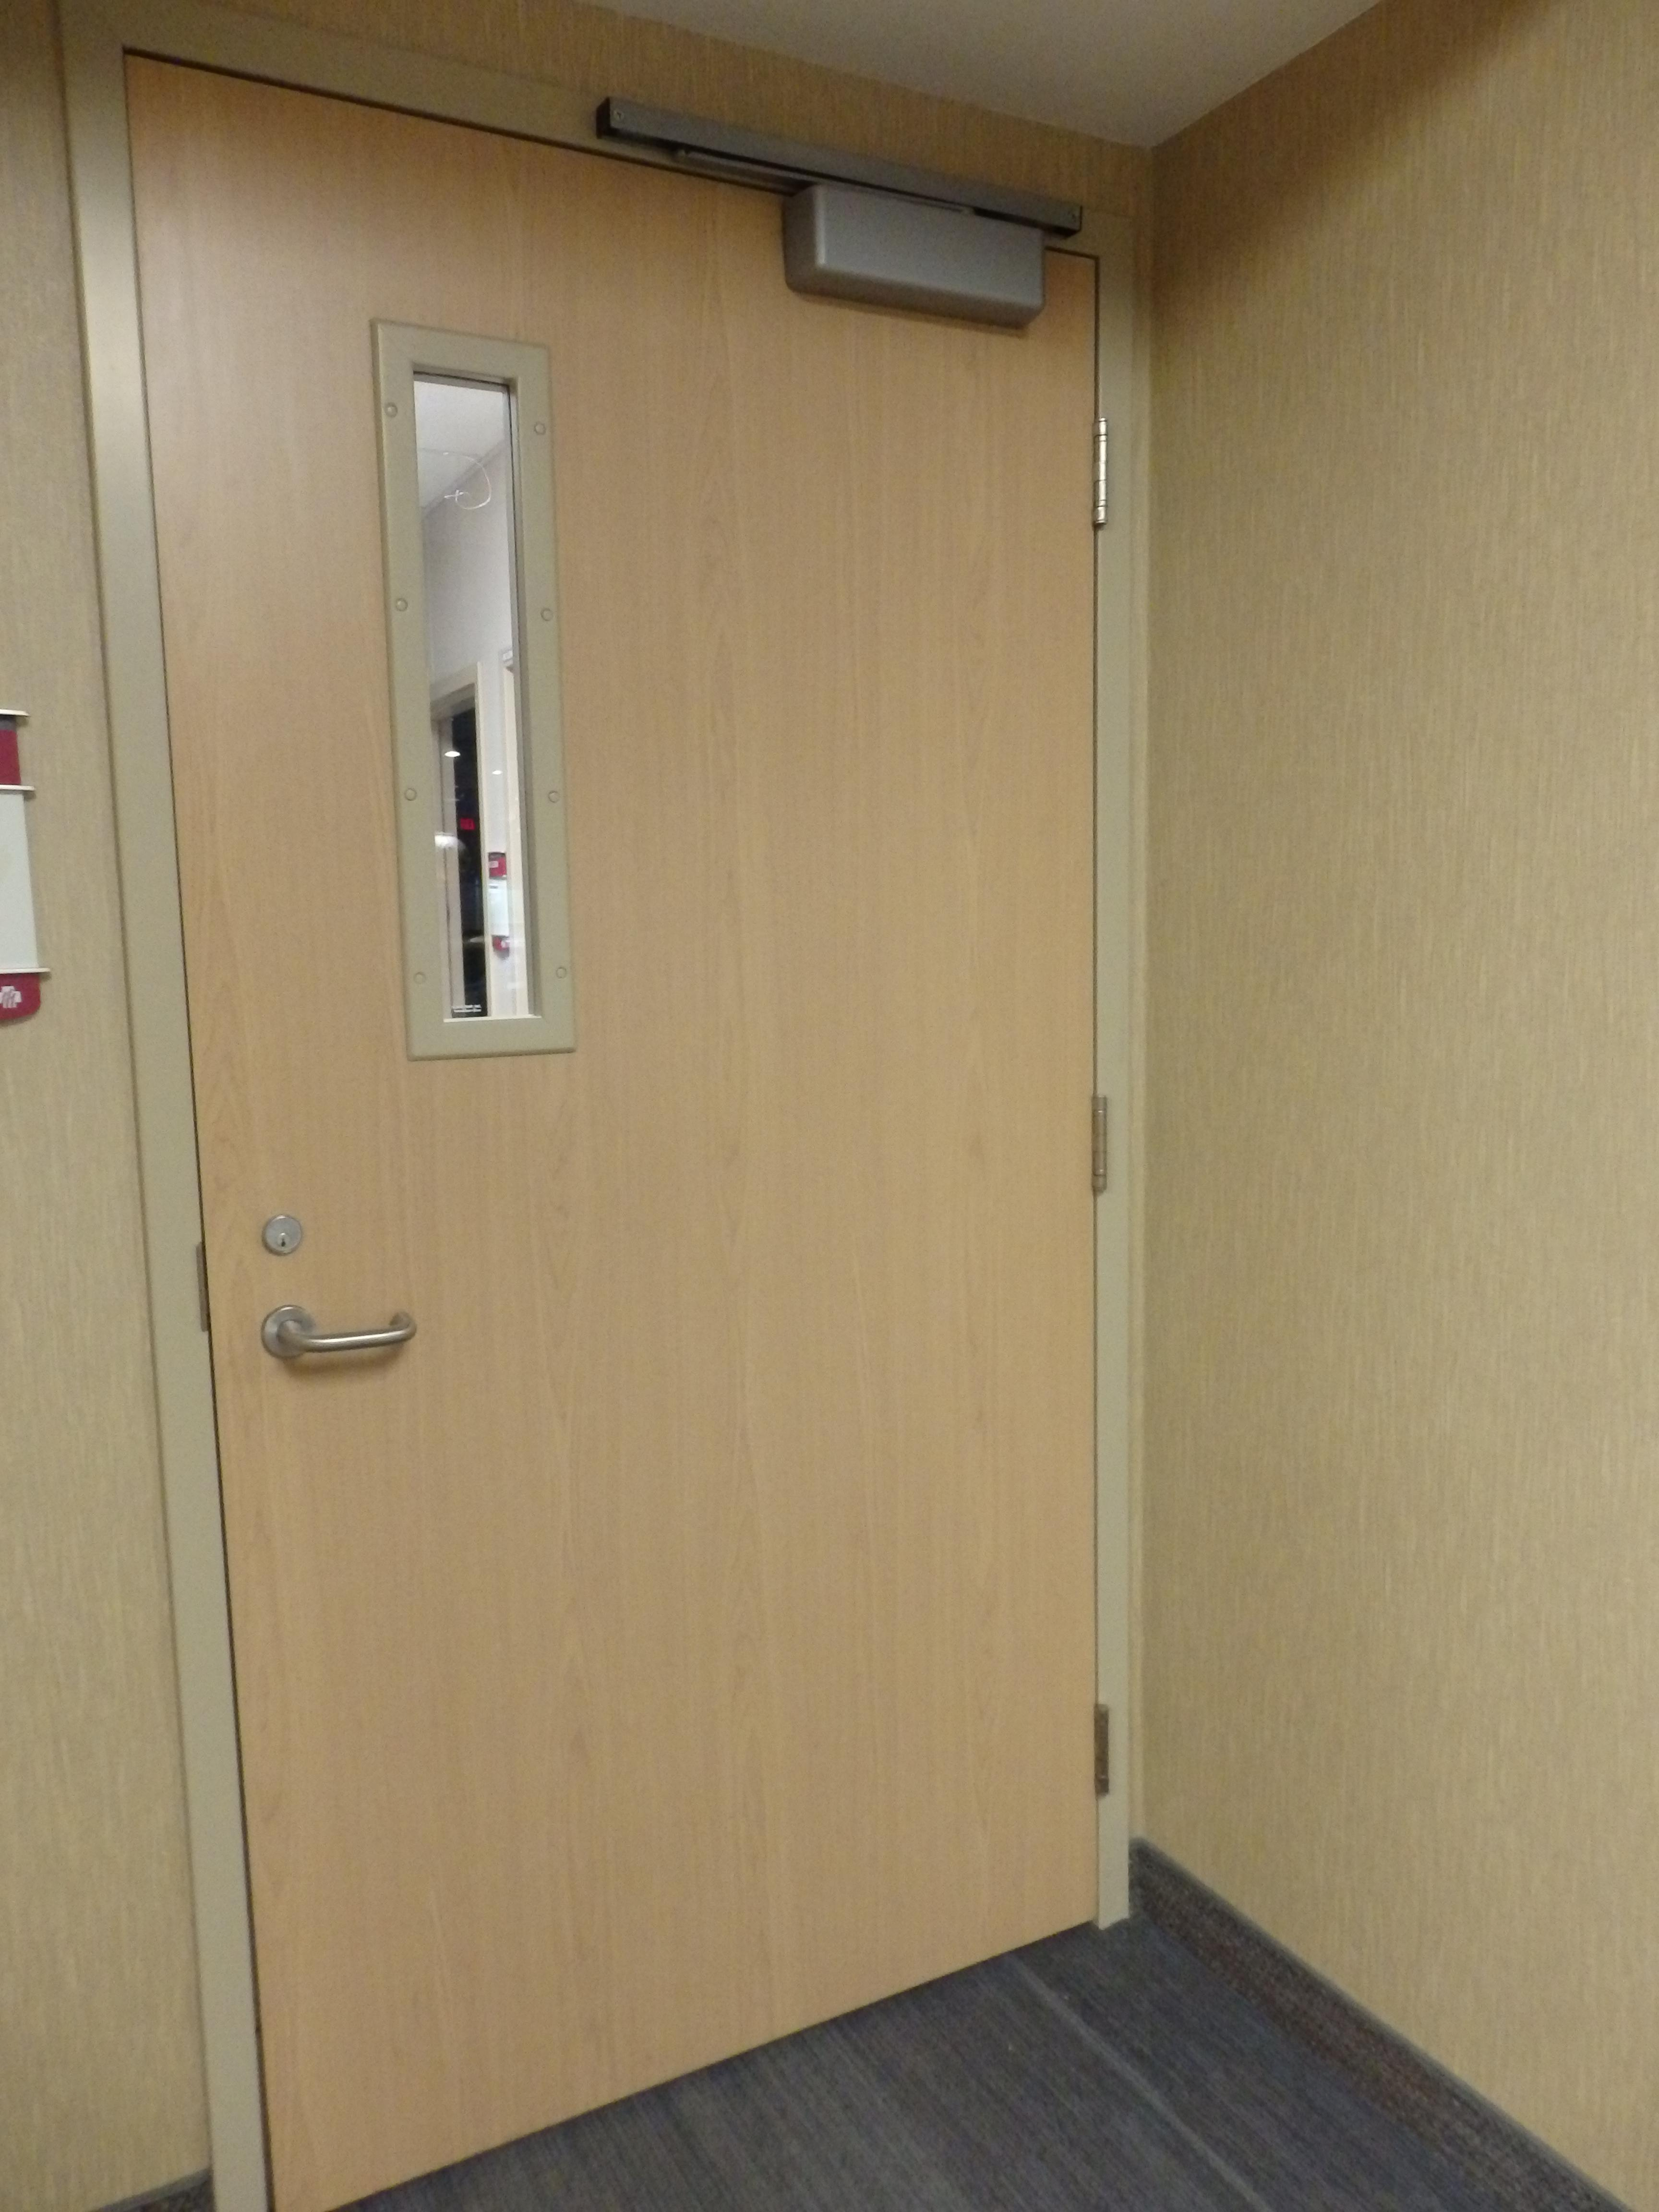door: (59, 7, 1133, 2212)
